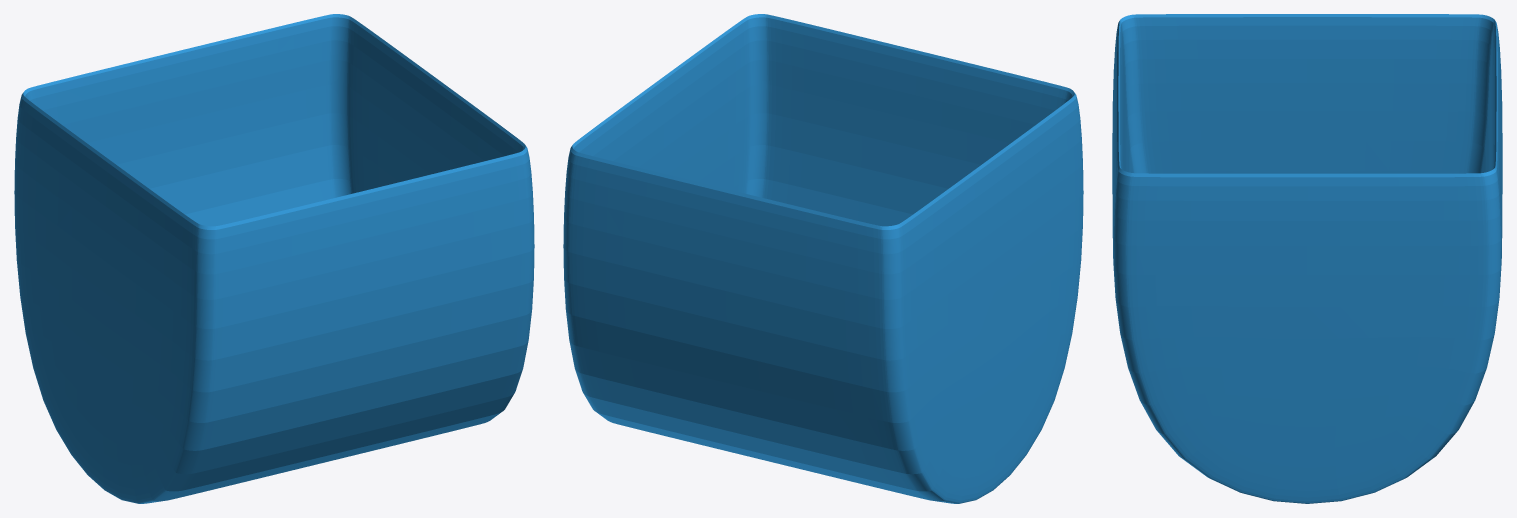
Rendered from shuichi.glb.
3 views of the same model, side by side, from view 1: azimuth 30°, elevation 25°; view 2: azimuth 150°, elevation 25°; view 3: azimuth 270°, elevation 25° (orthographic).
Parts seen in each view (by area): view 1: Cube; view 2: Cube; view 3: Cube.
Boxes of the visible parts, box(x1,y1,x2,y2) form: Cube: box(14, 14, 534, 503); Cube: box(563, 14, 1083, 503); Cube: box(1112, 14, 1502, 503).
Size of what is drawn, in the model's own units: 2 by 1.83 by 1.98.
